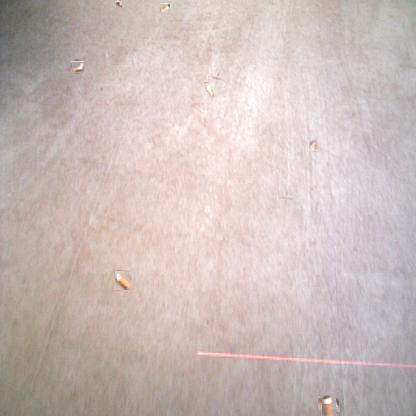dirty: (320, 396, 338, 414), (114, 270, 130, 290), (71, 60, 84, 73), (204, 82, 214, 96), (308, 139, 317, 151), (160, 3, 170, 12), (115, 1, 122, 9)
mark: (211, 72, 223, 84), (281, 193, 291, 204), (100, 85, 104, 93)
